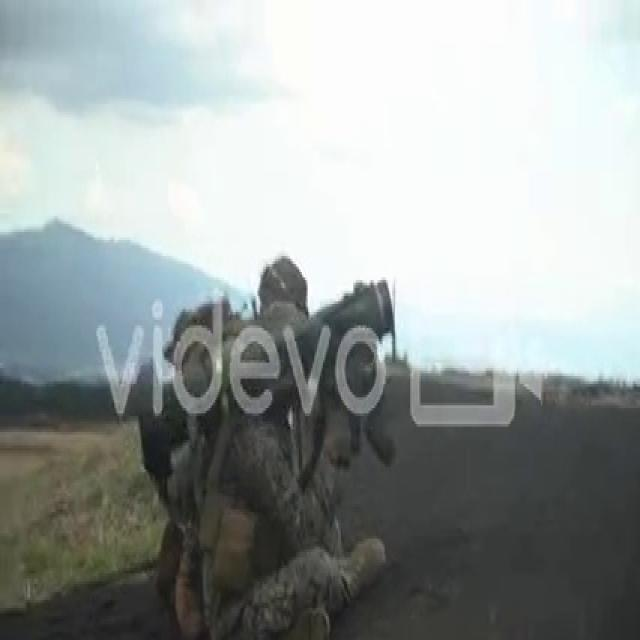bazooka: (135, 276, 396, 480)
